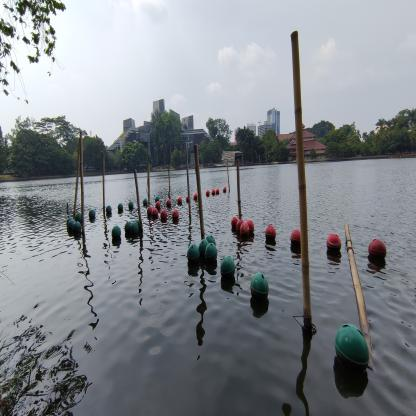green_buoy: (334, 321, 370, 379), (249, 271, 270, 305), (219, 254, 236, 282), (204, 242, 218, 264), (187, 242, 200, 264), (198, 239, 209, 256), (111, 225, 122, 241), (205, 234, 217, 248), (72, 221, 82, 235), (130, 222, 139, 236), (124, 220, 132, 235), (68, 219, 76, 232), (74, 212, 82, 224), (88, 209, 96, 219), (106, 204, 112, 214), (118, 202, 124, 212), (135, 218, 140, 229), (128, 201, 134, 210), (142, 197, 148, 206), (155, 195, 159, 202)
red_buoy: (368, 237, 387, 261), (326, 233, 342, 254), (264, 224, 276, 242), (290, 229, 301, 247), (240, 222, 249, 237), (246, 219, 254, 235), (231, 215, 239, 229), (236, 219, 244, 233), (172, 209, 180, 220), (160, 210, 167, 220), (147, 206, 153, 216), (152, 208, 158, 218), (155, 201, 161, 210), (193, 192, 198, 201), (177, 196, 182, 205), (166, 198, 171, 207), (205, 189, 210, 197), (222, 186, 227, 193), (186, 195, 191, 202), (212, 188, 216, 196), (216, 188, 219, 195)
